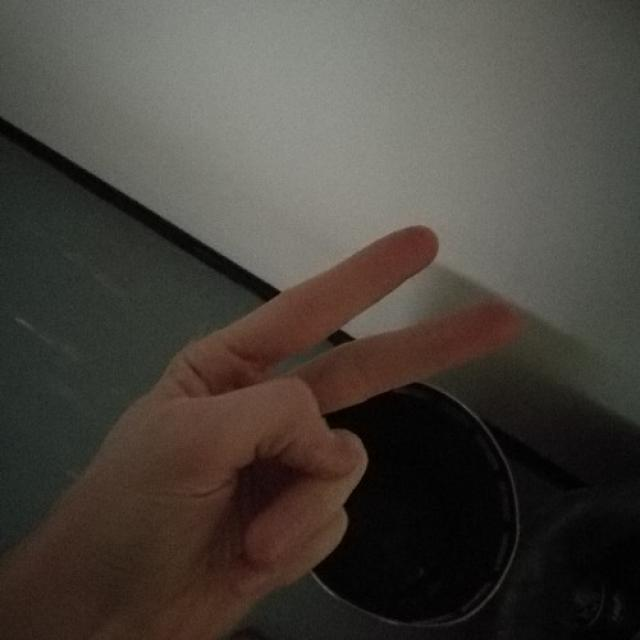scissors: (104, 220, 522, 602)
